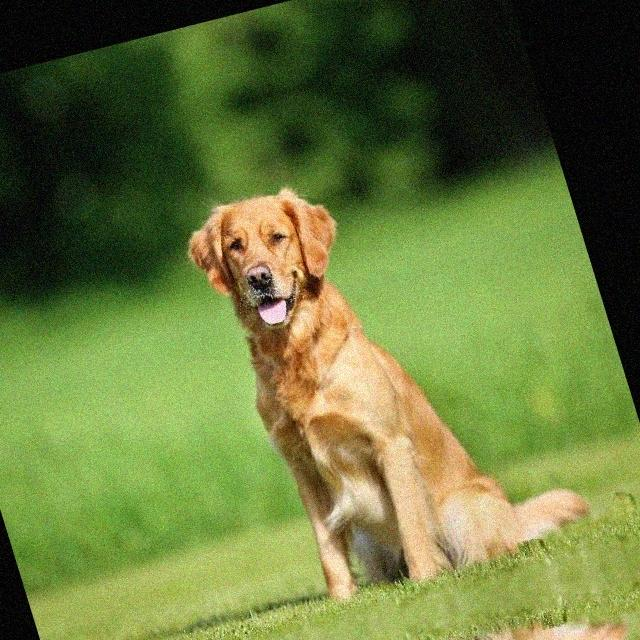dog: (172, 126, 598, 608), (123, 0, 426, 48), (316, 599, 633, 640)
